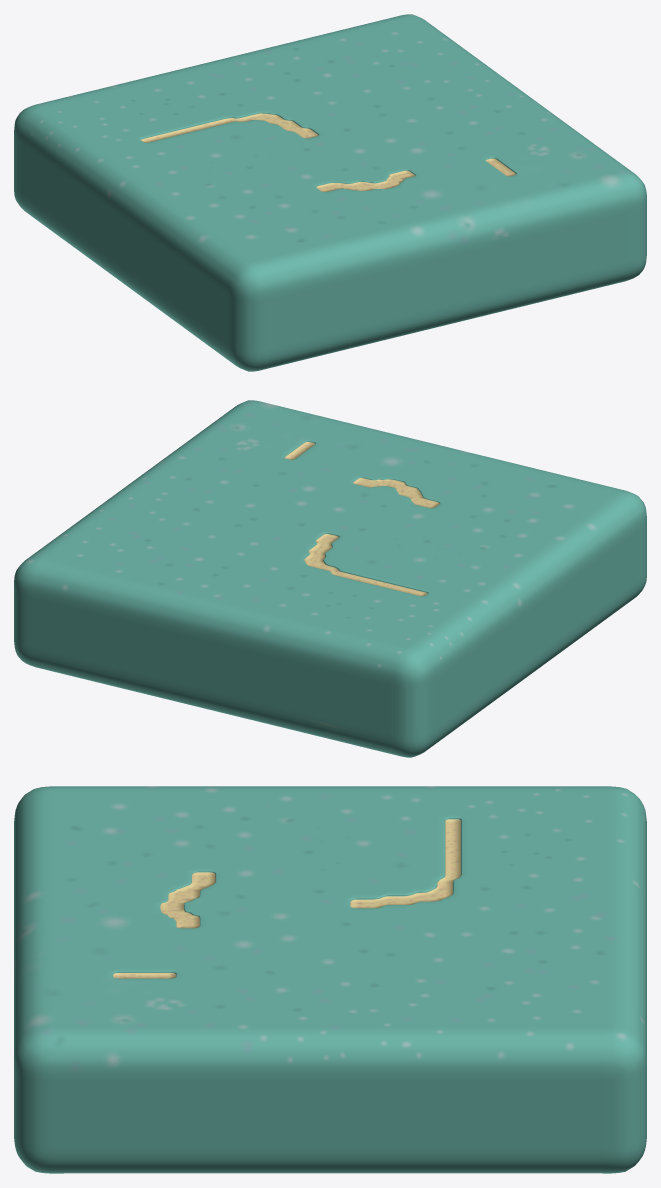
The model's file is BreadGround.fbx.
3 renders of one model, top to bottom at view 1: azimuth 30°, elevation 25°; view 2: azimuth 150°, elevation 25°; view 3: azimuth 270°, elevation 25°, orthographic. The views are drawn at different scales.
Parts seen in each view (by area): view 1: Roundcube.001; view 2: Roundcube.001; view 3: Roundcube.001.
Part boxes in pixels (x1,y1,x2,y2): Roundcube.001: (14, 14, 646, 371); Roundcube.001: (14, 400, 646, 757); Roundcube.001: (14, 786, 646, 1173).
Size of the model in its own units: 887 by 218 by 887.
1 material, 1 textured.
